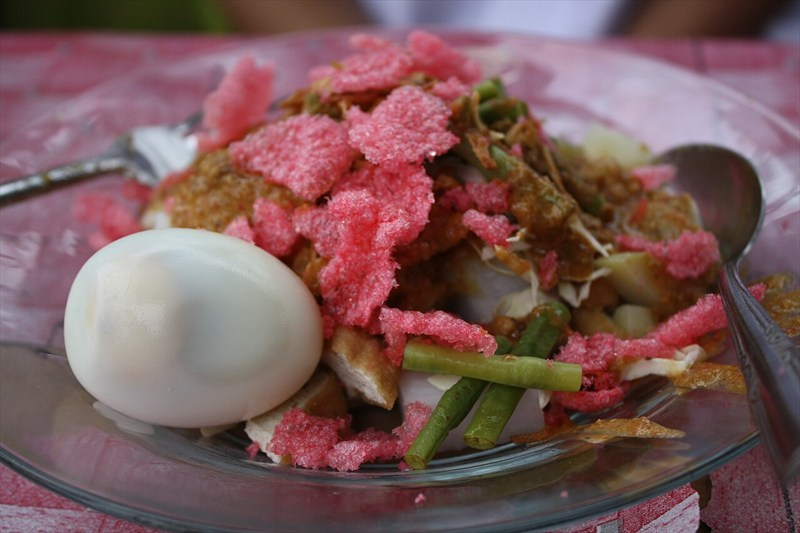Gado-Gado: (87, 66, 708, 423)
